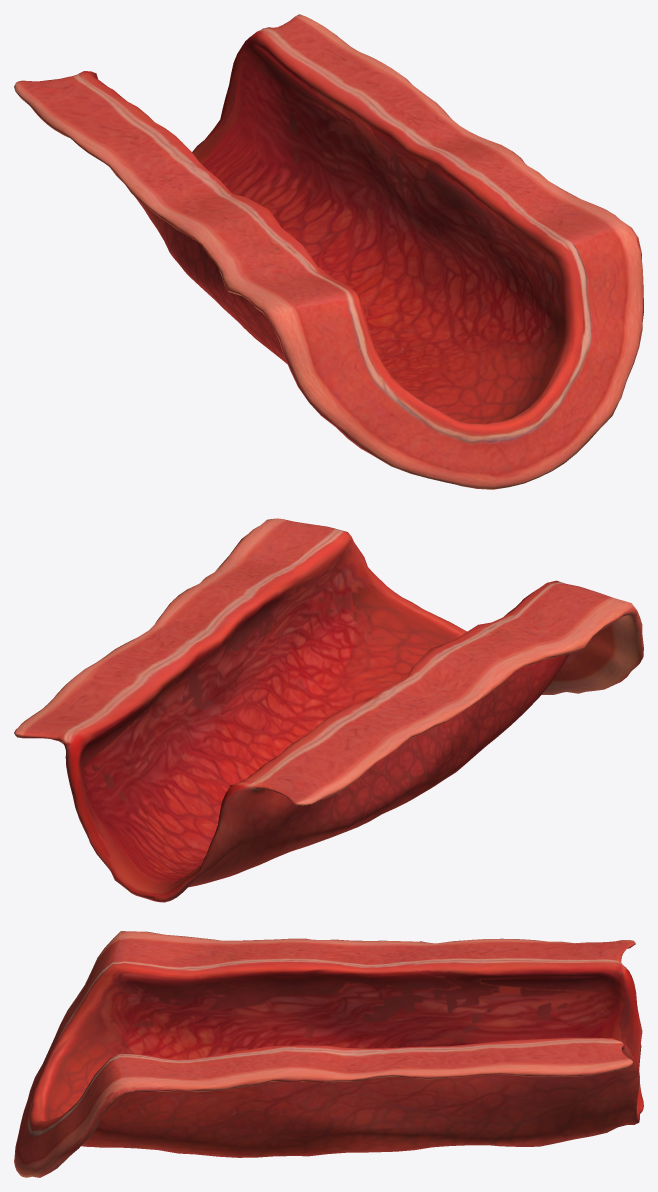
The model's file is blood_vessels_new.fbx.
3 renders of one model, top to bottom at view 1: azimuth 30°, elevation 25°; view 2: azimuth 150°, elevation 25°; view 3: azimuth 270°, elevation 25°, orthographic. The views are drawn at different scales.
Parts seen in each view (by area): view 1: blood_vessels_New; view 2: blood_vessels_New; view 3: blood_vessels_New.
Part boxes in pixels (<box>): blood_vessels_New: <box>14,14,643,489</box>; blood_vessels_New: <box>14,518,643,902</box>; blood_vessels_New: <box>14,931,643,1177</box>.
Bounding box in the file's own units: 195 × 93.58 × 333.
1 material, 1 textured.
